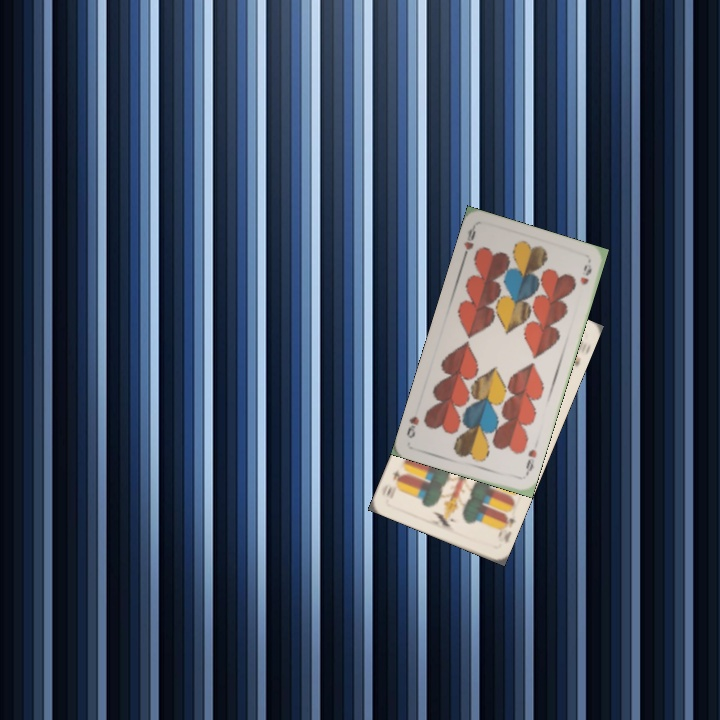E10: (493, 509, 518, 545)
H9: (458, 223, 478, 263), (519, 445, 539, 479)
